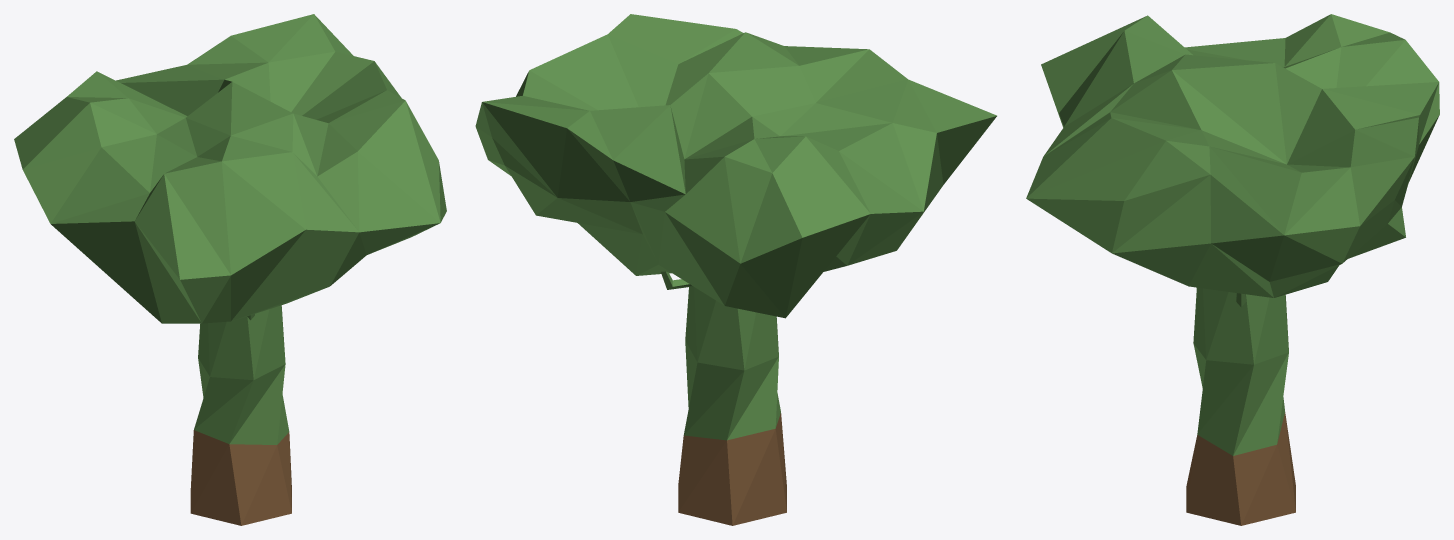
The model's file is tree3d-058.glb.
3 views of the same model, side by side, from view 1: azimuth 30°, elevation 25°; view 2: azimuth 150°, elevation 25°; view 3: azimuth 270°, elevation 25° (orthographic). The views are drawn at different scales.
Visible parts, largest first — view 1: tree3d-058; view 2: tree3d-058; view 3: tree3d-058.
Boxes of the visible parts, x1,y1,x2,y2 form: tree3d-058: (14, 14, 446, 525); tree3d-058: (475, 14, 996, 525); tree3d-058: (1026, 14, 1439, 525).
Bounding box in the file's own units: 0.9545 × 1 × 0.853.
